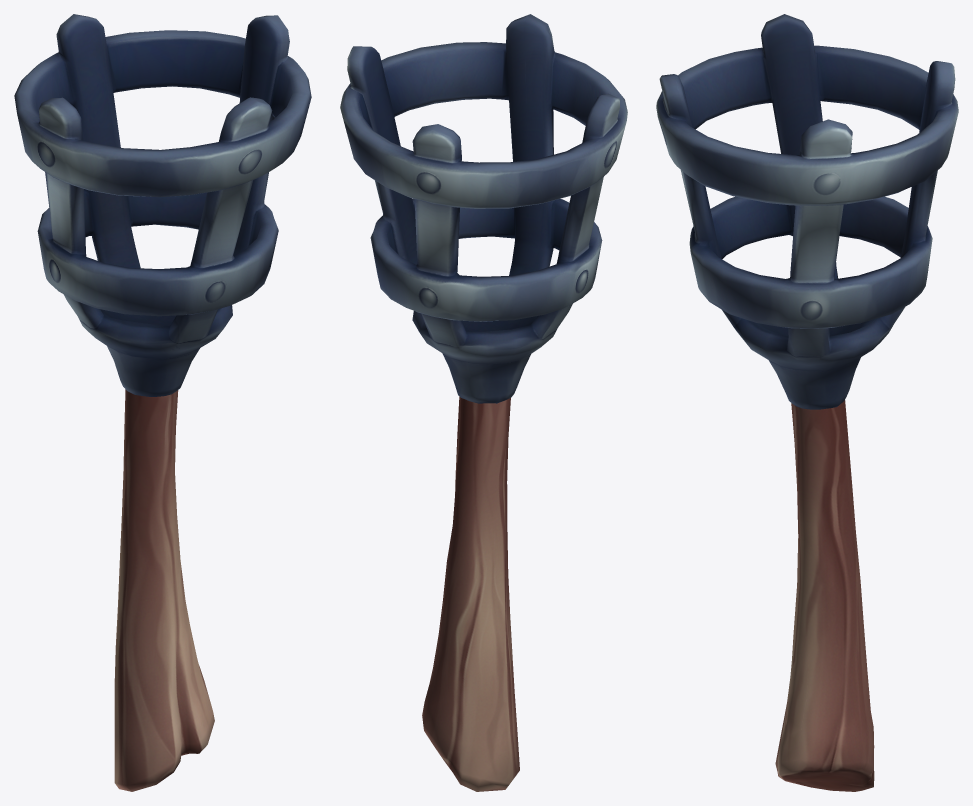
The model's file is Torch.FBX.
The picture shows the model from 3 angles, left to right: view 1: azimuth 30°, elevation 25°; view 2: azimuth 150°, elevation 25°; view 3: azimuth 270°, elevation 25°; orthographic projection. The views are drawn at different scales.
Visible parts, largest first — view 1: Torch; view 2: Torch; view 3: Torch.
Boxes of the visible parts, x1,y1,x2,y2 form: Torch: (14,14,311,791); Torch: (340,14,627,791); Torch: (656,14,958,791).
Size of the model in its own units: 26.74 by 26.8 by 72.61.
Materials: 1 (1 with a texture image).
